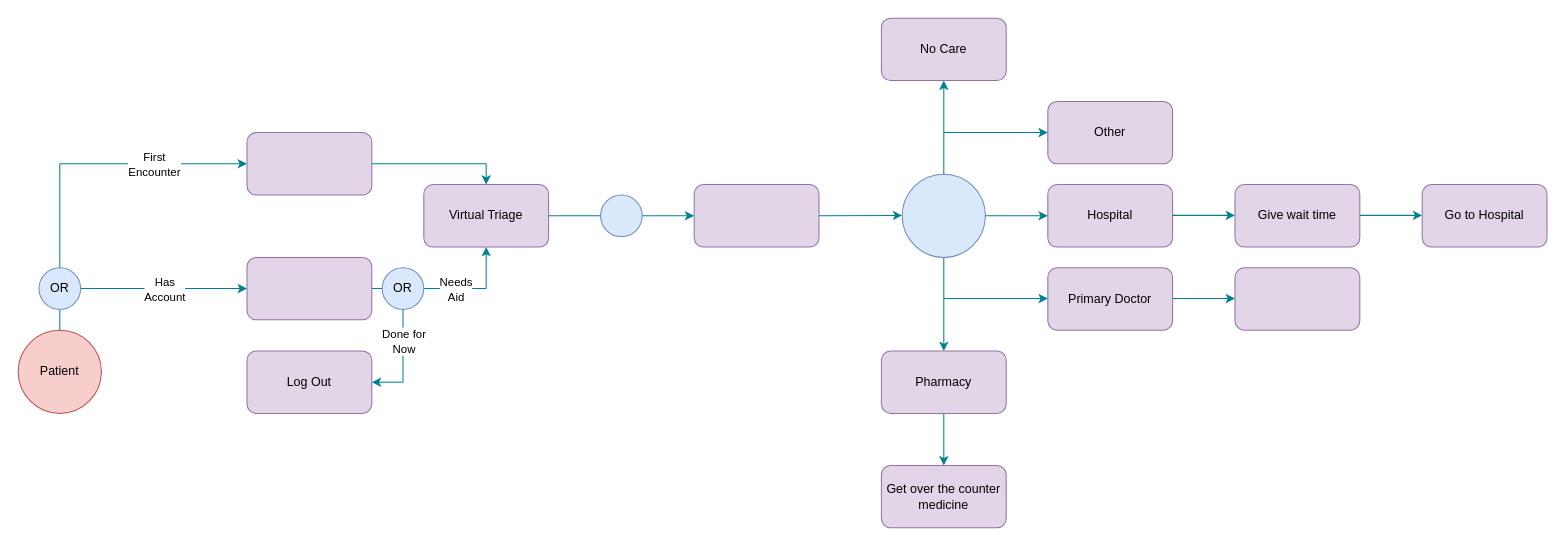
Some shapes in this 1565 by 546 pixel diagram are drawn without their labels. The box of each missing label's shape, as (x1, y1, x2, y2) in pixels:
Create account: (246, 132, 372, 195)
Given suggested treatment options: (693, 184, 819, 247)
Go to PCP: (1234, 267, 1360, 330)
Log In: (246, 256, 372, 320)
Pick Option: (901, 173, 985, 257)
WAIT: (600, 194, 642, 237)
